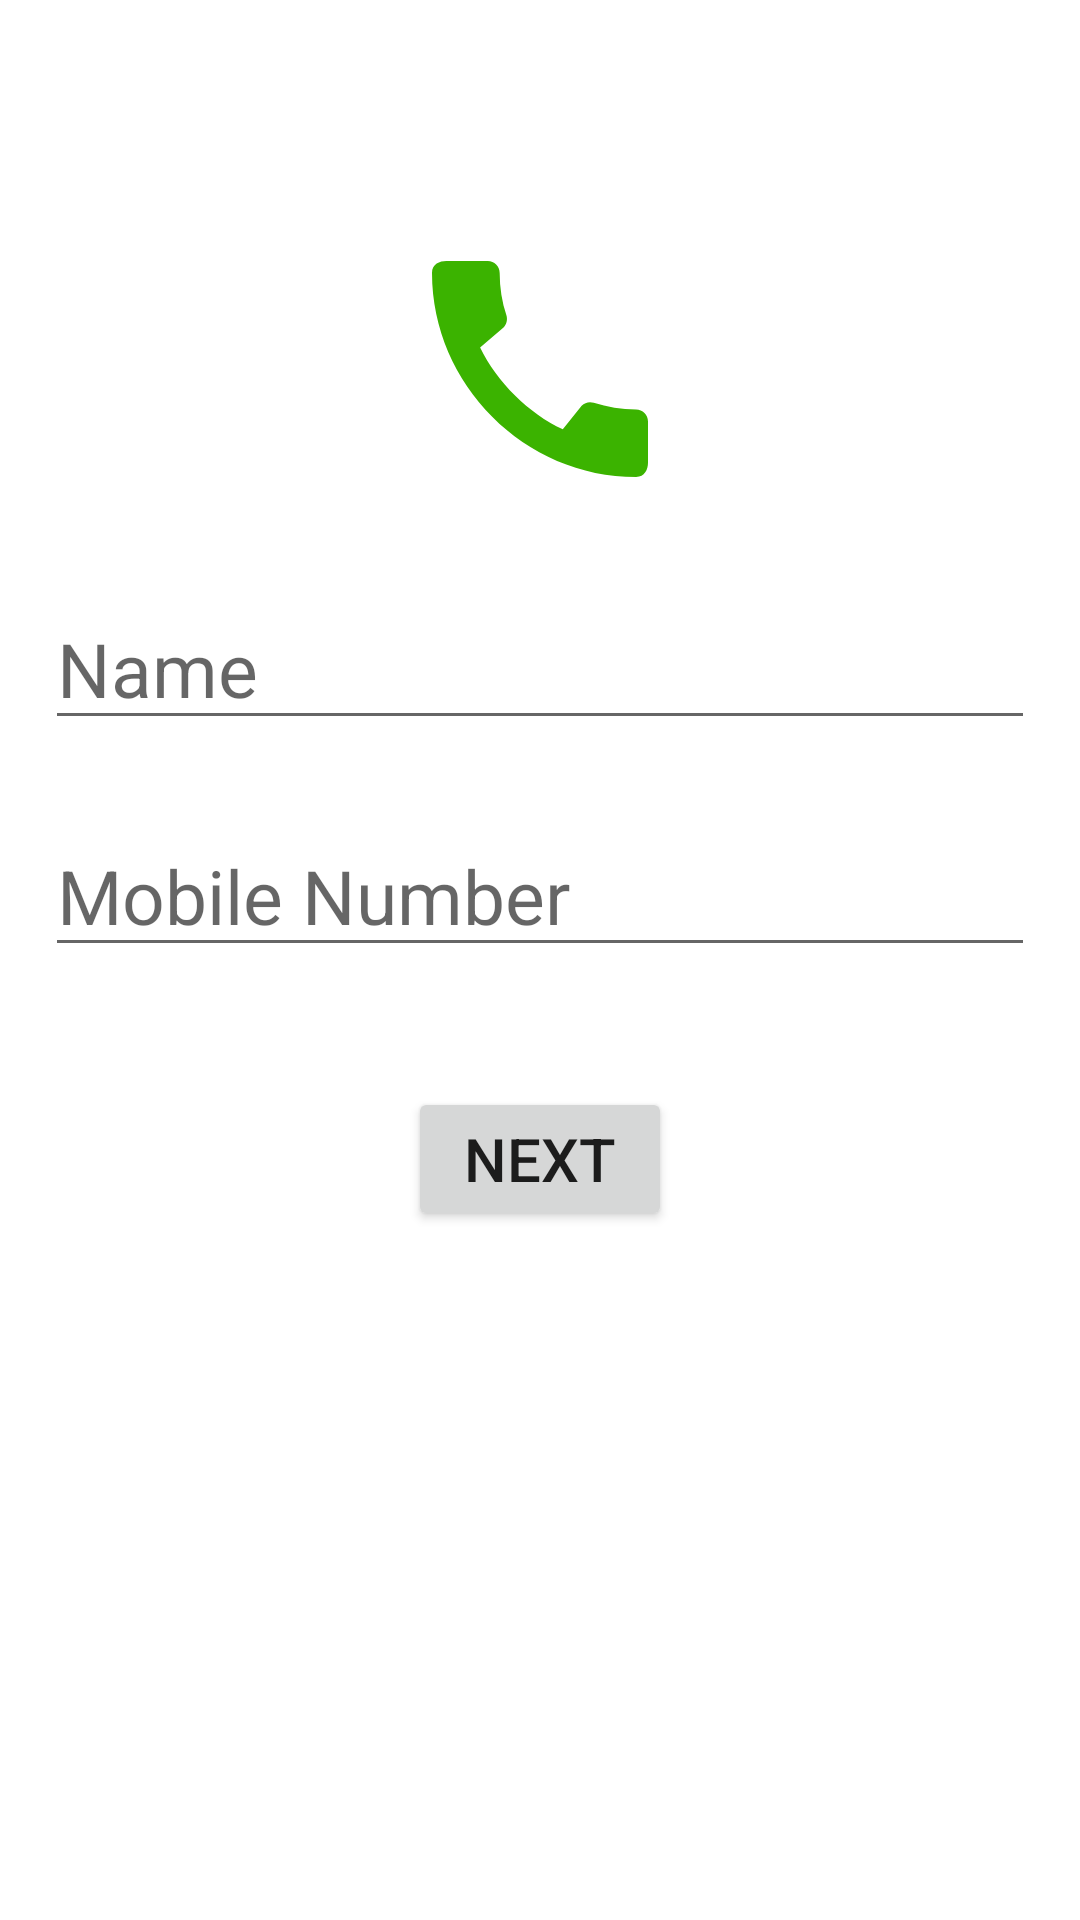

Icons on this 1080×1920 Android screen, each with its box as [x1=x1, y1=y1, x2=x2, y2=y2]:
call: [x1=432, y1=261, x2=648, y2=477]
